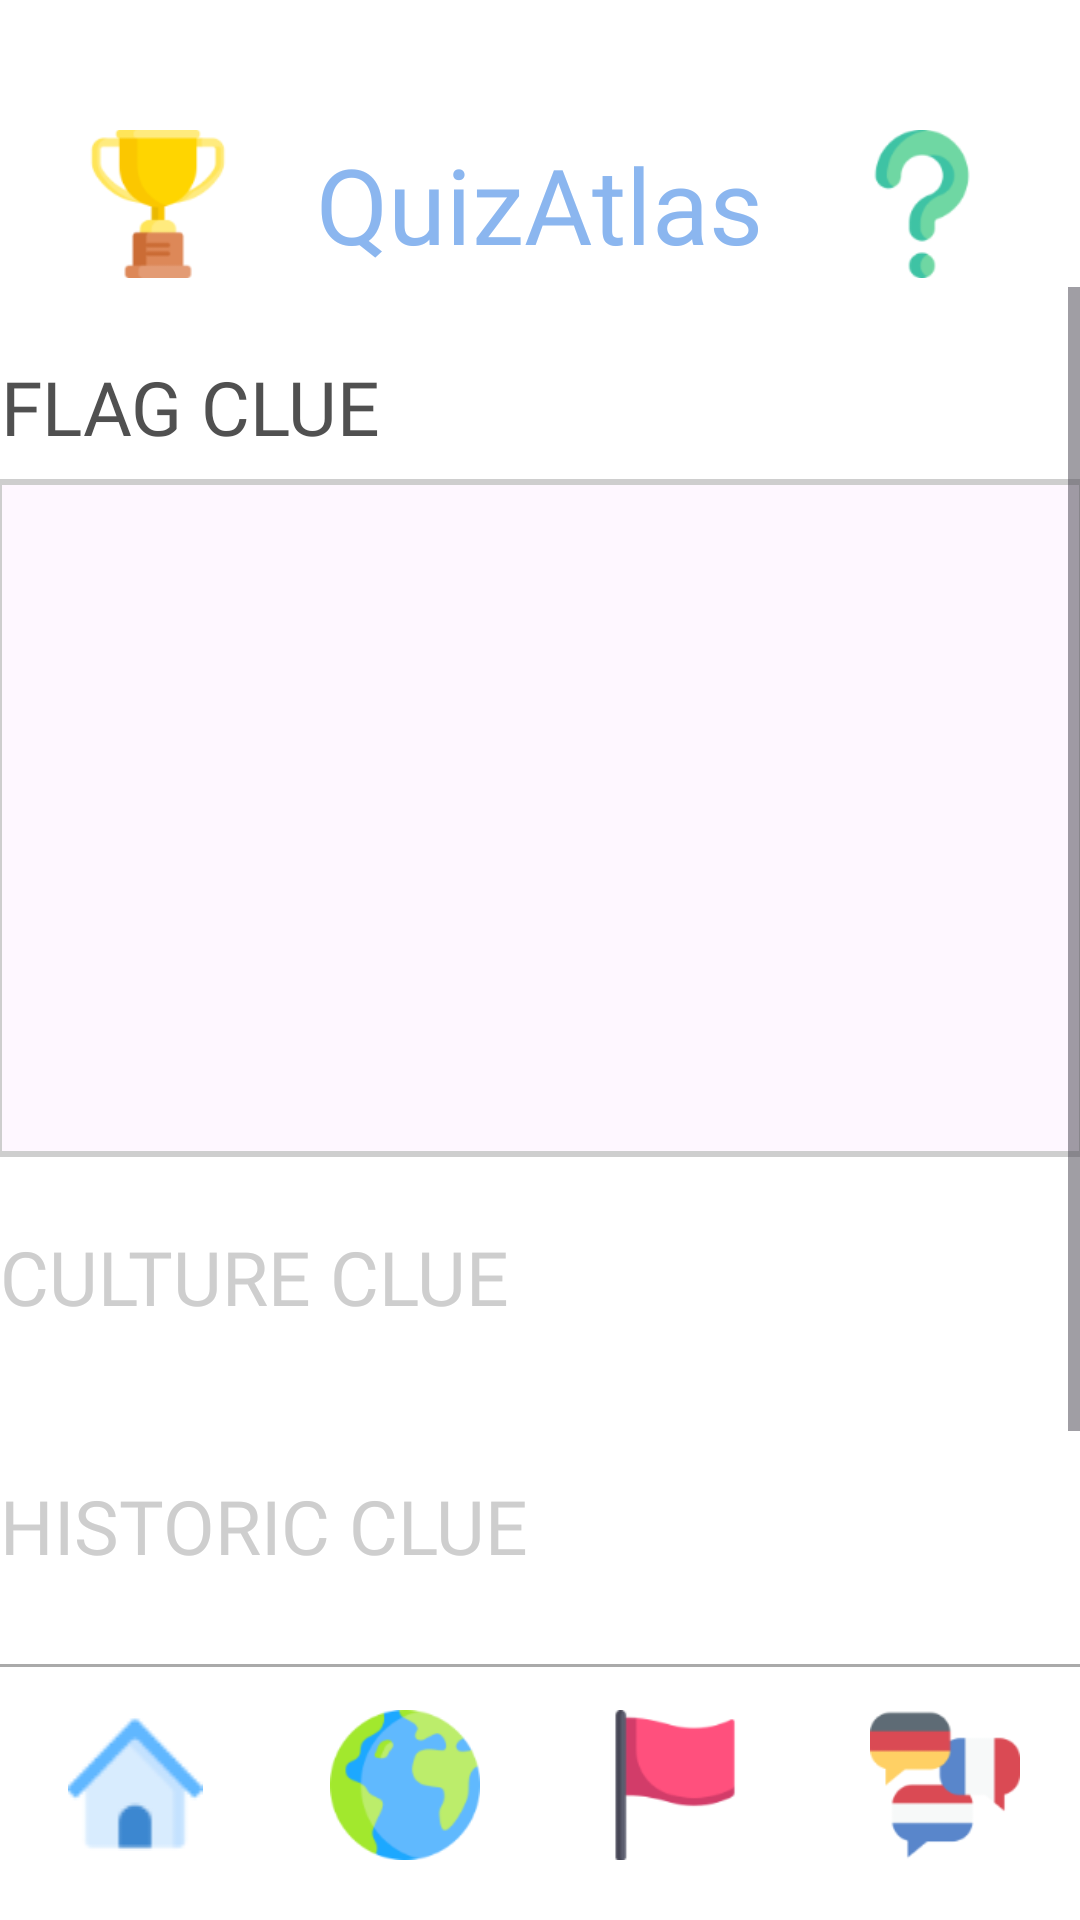

Icon click points for this 1080*1920 phone screenshot, format (x,y):
earth: (405,1785)
flag: (675,1785)
home: (135,1783)
language: (945,1784)
questionmark: (922,204)
trophy: (158,204)
